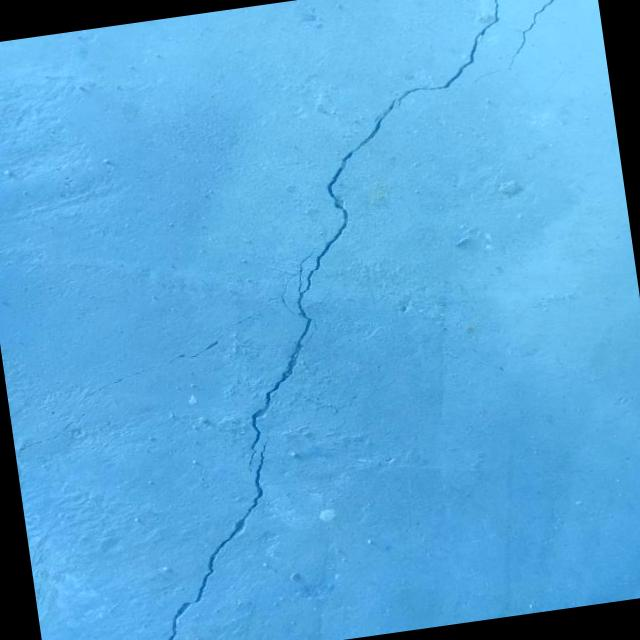crack: (37, 0, 574, 493), (129, 435, 299, 640), (460, 0, 587, 83), (15, 413, 90, 454)
